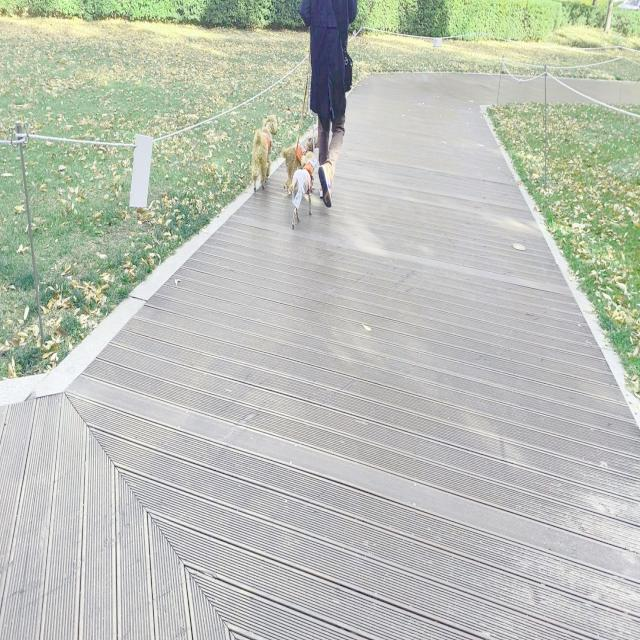Leashed_Dog: (252, 36, 322, 195), (282, 37, 321, 193), (289, 38, 320, 230)
